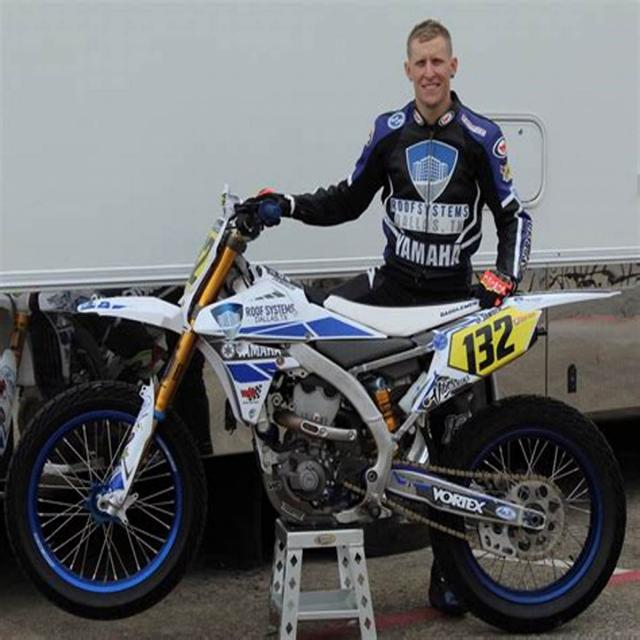No Parking: (351, 8, 525, 190)
